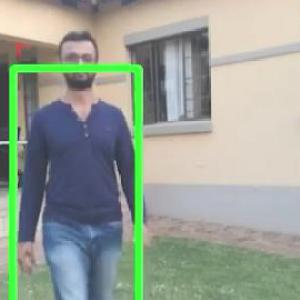follow: (18, 34, 144, 299)
